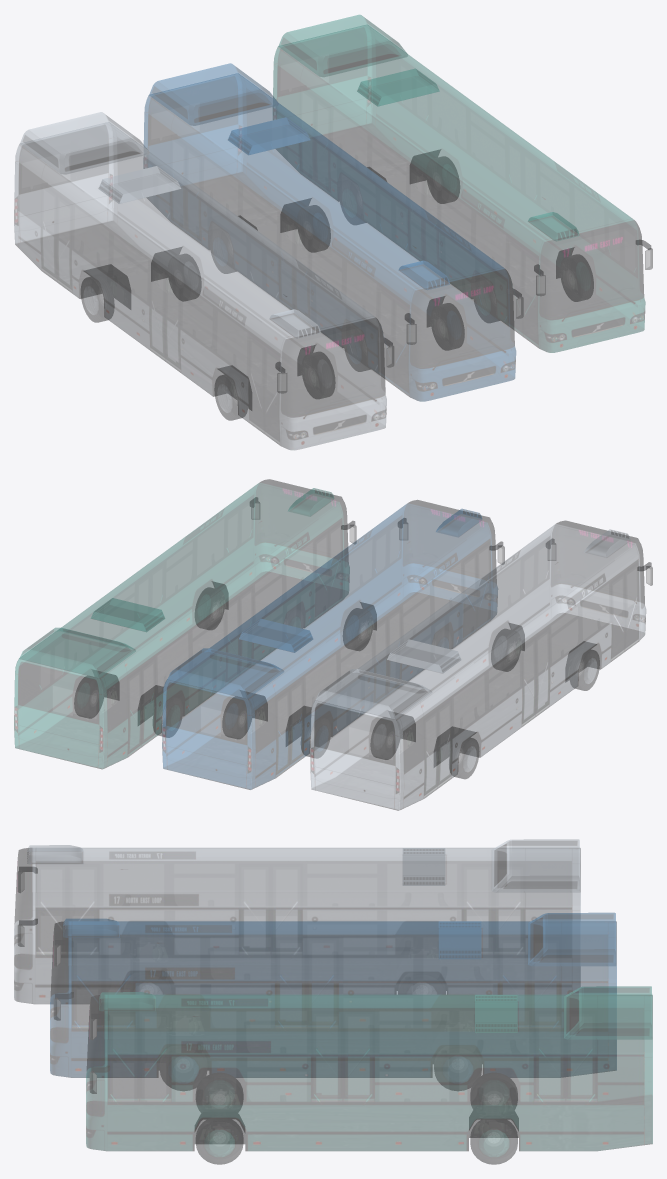
Rendered from commercial-fleet.glb.
The picture shows the model from 3 angles, top to bottom: view 1: azimuth 30°, elevation 25°; view 2: azimuth 150°, elevation 25°; view 3: azimuth 270°, elevation 25°; orthographic projection. The views are drawn at different scales.
Visible parts, largest first — view 1: Commercial route bus silver.002, Commercial route bus blue.002, Commercial route bus teal.002; view 2: Commercial route bus silver.002, Commercial route bus blue.002, Commercial route bus teal.002; view 3: Commercial route bus teal.002, Commercial route bus blue.002, Commercial route bus silver.002.
Part boxes in pixels (x1,y1,x2,y2): Commercial route bus silver.002: (14,112,393,450); Commercial route bus blue.002: (143,63,523,401); Commercial route bus teal.002: (273,15,652,352); Commercial route bus silver.002: (310,520,652,810); Commercial route bus blue.002: (162,500,504,789); Commercial route bus teal.002: (14,479,356,769); Commercial route bus teal.002: (86,986,652,1164); Commercial route bus blue.002: (50,913,616,1090); Commercial route bus silver.002: (14,839,580,1003).
Size of the model in its own units: 3.76 by 1.17 by 4.96.
Materials: 3 (3 with a texture image).
